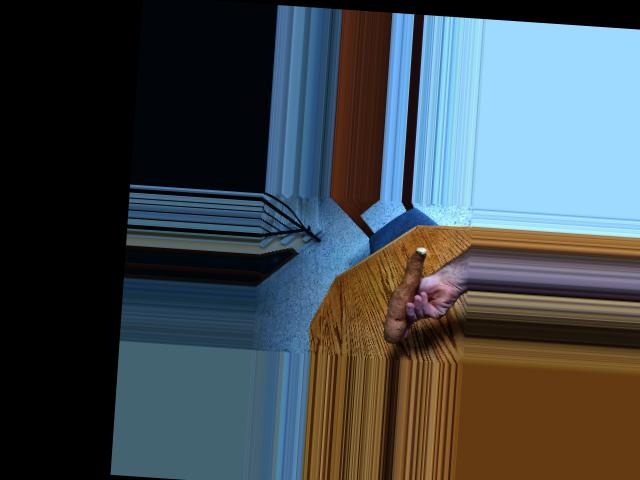sweet_potato: (379, 242, 431, 343)
